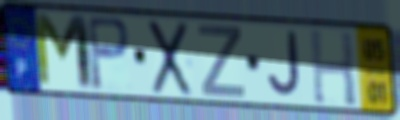H: (307, 26, 359, 109)
J: (265, 30, 304, 101)
M: (31, 10, 97, 94)
P: (85, 13, 133, 94)
X: (147, 18, 194, 99)
Z: (196, 22, 248, 101)
